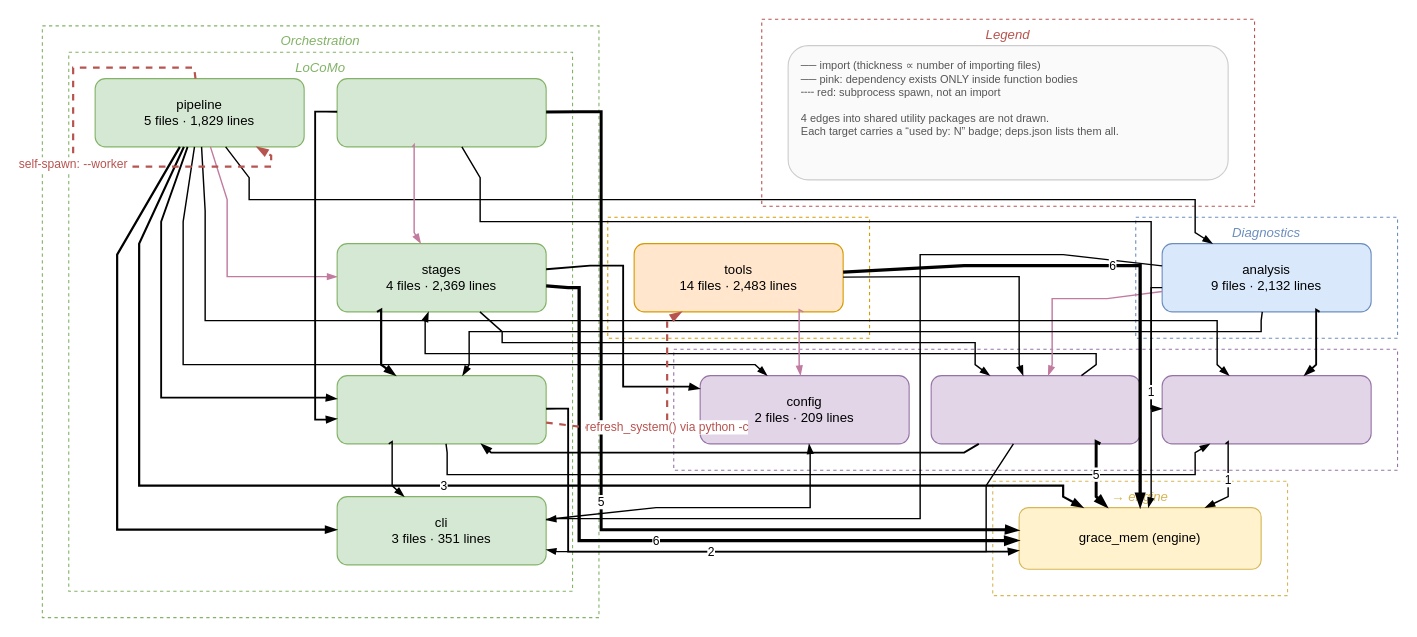
Some shapes in this 1417 by 637 pixel diagram are drawn without their labels. Here are the shapes that lost their labels. From the top down, the box of each, then its label:
(336, 78, 546, 147): support 10 files · 967 lines used by: 4
(607, 216, 870, 338): Peripheral
(336, 375, 546, 444): helpers 7 files · 1,382 lines
(930, 375, 1140, 444): common/evaluation 4 files · 1,646 lines
(673, 348, 1398, 470): Shared
(1161, 375, 1371, 444): common 5 files · 282 lines
